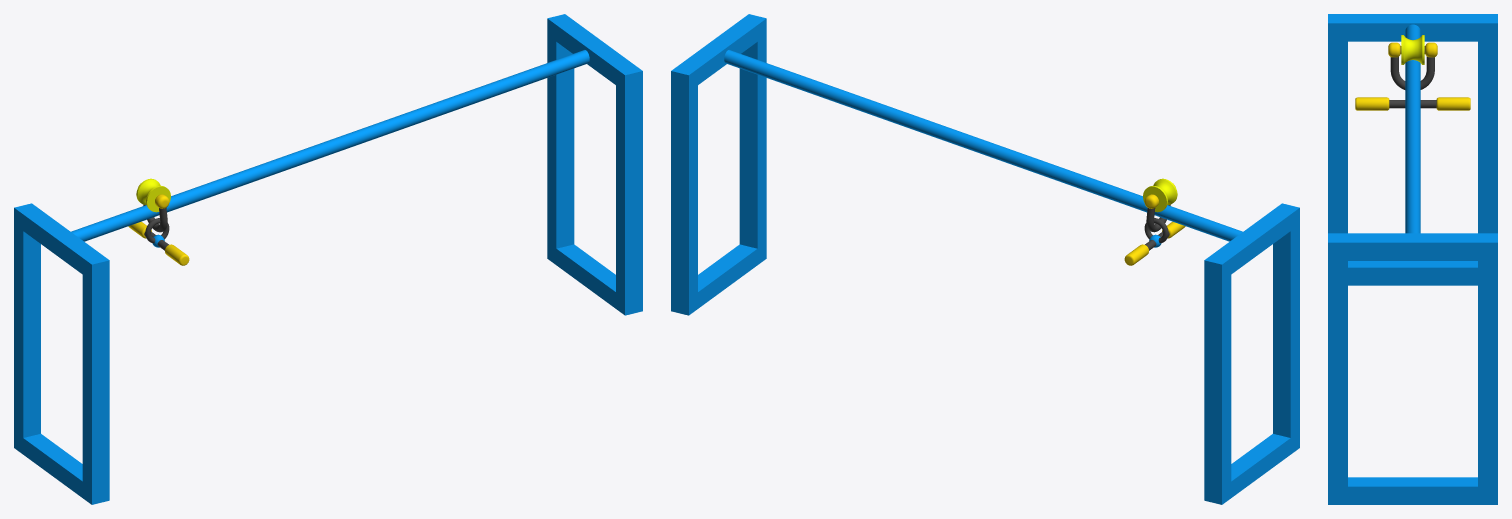
The model's file is rong roc lan.fbx.
3 renders of one model, left to right at view 1: azimuth 30°, elevation 25°; view 2: azimuth 150°, elevation 25°; view 3: azimuth 270°, elevation 25°, orthographic. The views are drawn at different scales.
Parts seen in each view (by area): view 1: Tube_1, Cylinder, Cylinder_1; view 2: Tube_1, Cylinder, Cylinder_1; view 3: Tube_1, Cylinder, Cylinder_8, Cylinder_1, Torus, Cylinder_6.
Part boxes in pixels (left/top/right/bottom): Tube_1: left=14, top=14, right=642, bottom=504; Cylinder: left=71, top=50, right=589, bottom=241; Cylinder_1: left=136, top=178, right=170, bottom=212; Tube_1: left=671, top=14, right=1299, bottom=504; Cylinder: left=724, top=50, right=1242, bottom=241; Cylinder_1: left=1143, top=178, right=1177, bottom=212; Tube_1: left=1328, top=14, right=1497, bottom=504; Cylinder: left=1405, top=24, right=1420, bottom=233; Cylinder_8: left=1355, top=97, right=1470, bottom=110; Cylinder_1: left=1401, top=35, right=1424, bottom=64; Torus: left=1390, top=56, right=1434, bottom=89; Cylinder_6: left=1389, top=100, right=1436, bottom=108.
Bounding box in the file's own units: 481 × 250 × 118.
